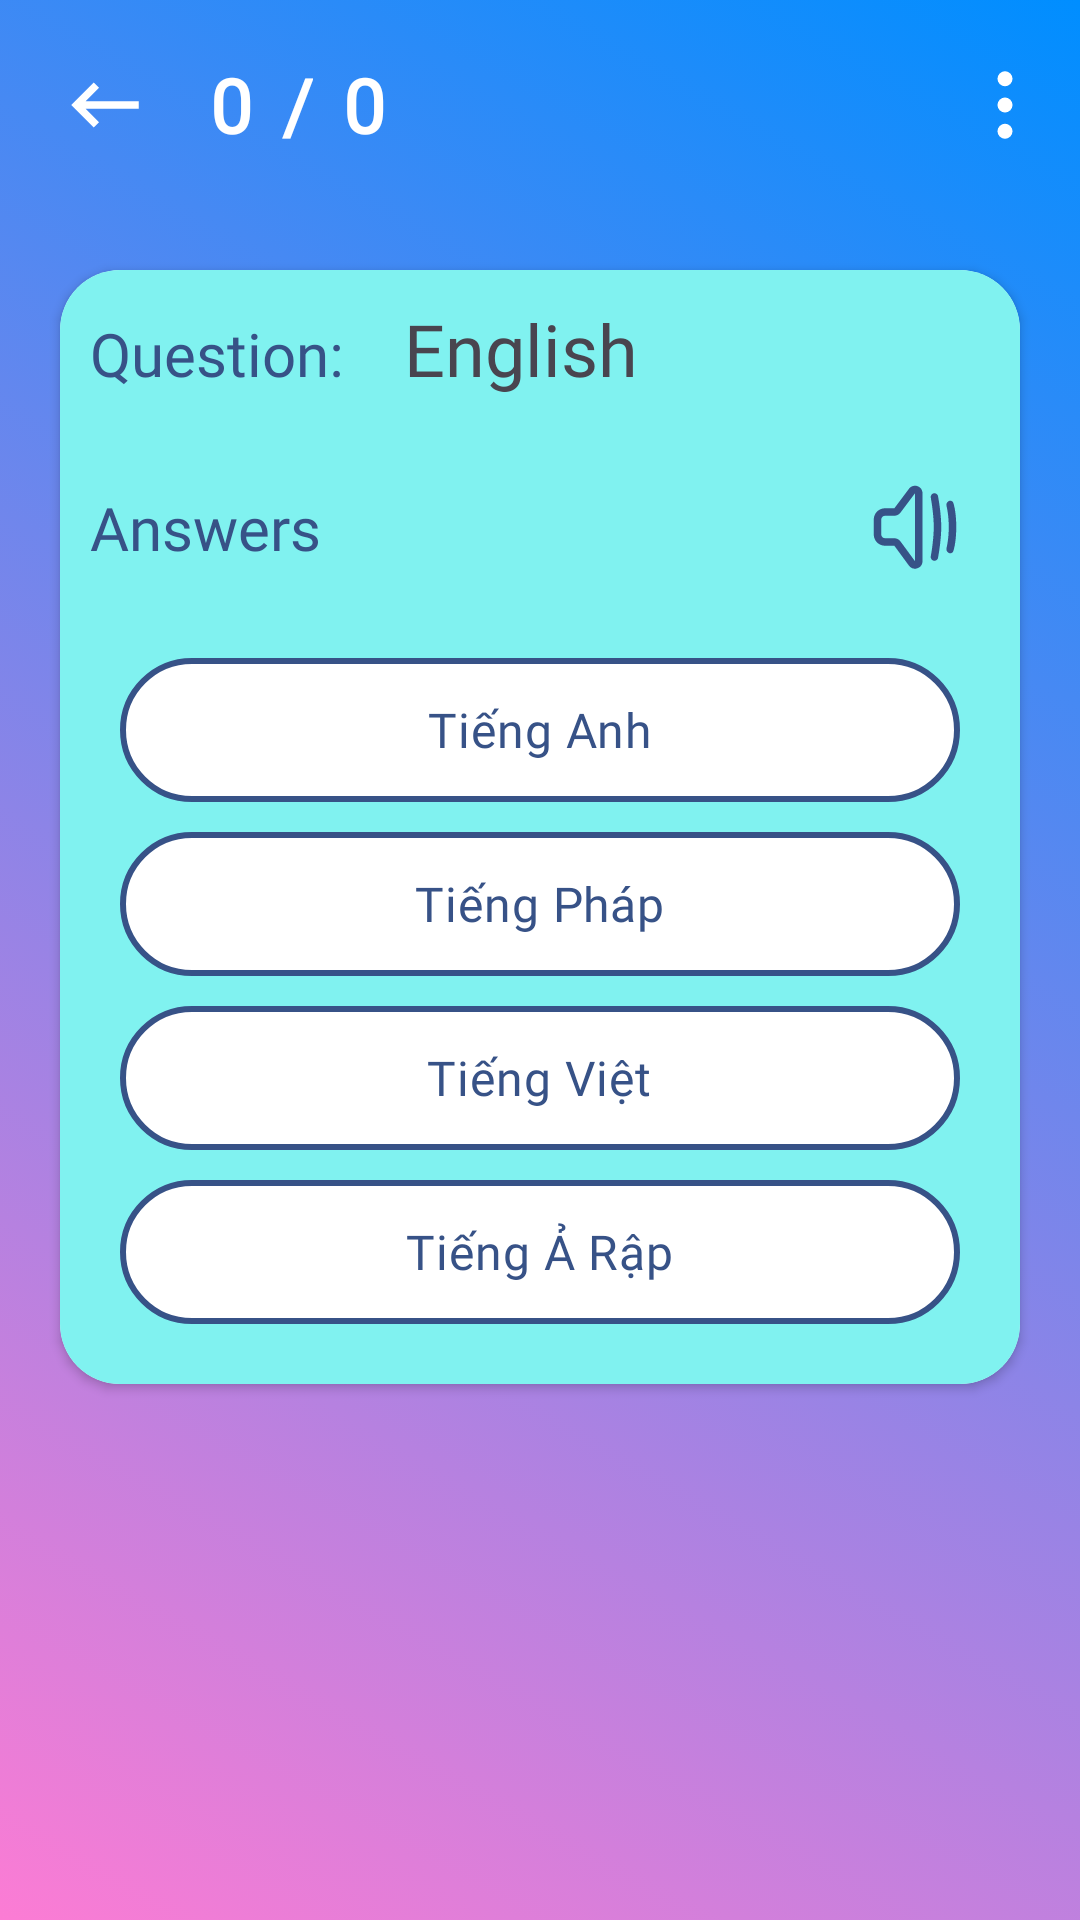

Icon bounding boxes for this 1080 × 1920 phone screenshot, format (x1, y1, x2, y2):
keyboard backspace: (71, 82, 139, 128)
sound: (873, 485, 957, 569)
vertical full: (997, 71, 1013, 139)
